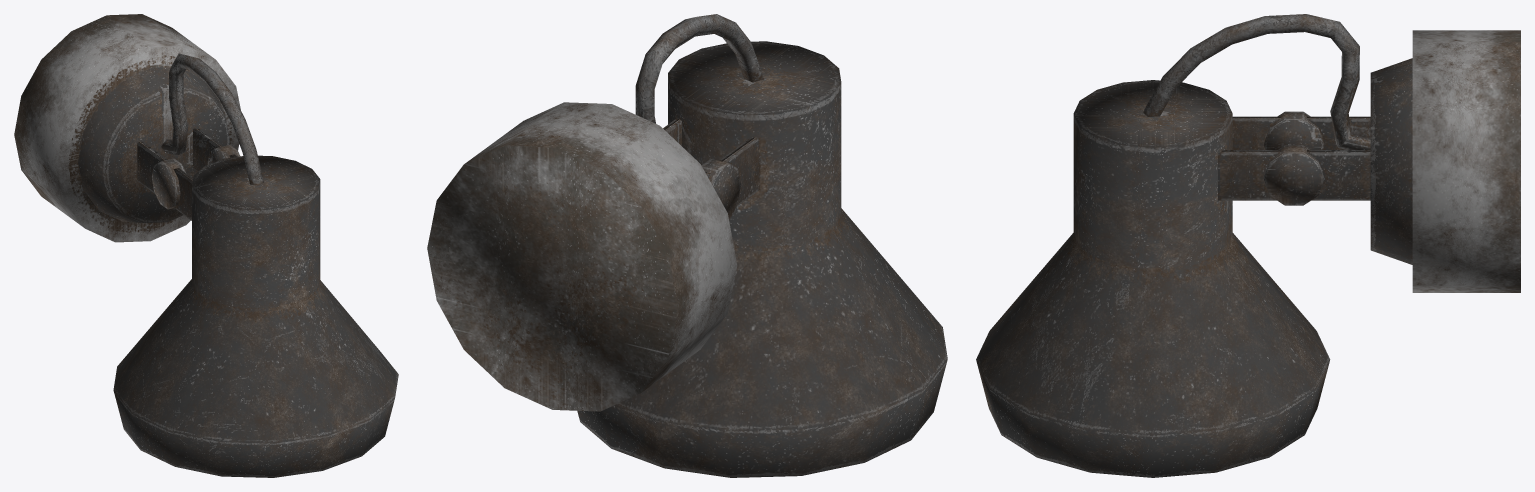
Rendered from Light_A.fbx.
The picture shows the model from 3 angles, left to right: view 1: azimuth 30°, elevation 25°; view 2: azimuth 150°, elevation 25°; view 3: azimuth 270°, elevation 25°; orthographic projection. The views are drawn at different scales.
Parts seen in each view (by area): view 1: Light_A_Light_A_Body, Light_A_Light_A_Connection, Light_A_Base; view 2: Light_A_Light_A_Body, Light_A_Base, Light_A_Light_A_Connection; view 3: Light_A_Light_A_Body, Light_A_Base, Light_A_Light_A_Connection.
Boxes of the visible parts, x1,y1,x2,y2 form: Light_A_Light_A_Body: [113, 154, 398, 477]; Light_A_Light_A_Connection: [78, 53, 263, 222]; Light_A_Base: [14, 14, 240, 242]; Light_A_Light_A_Body: [577, 41, 947, 477]; Light_A_Base: [427, 102, 737, 411]; Light_A_Light_A_Connection: [635, 14, 764, 220]; Light_A_Light_A_Body: [976, 80, 1330, 477]; Light_A_Base: [1412, 30, 1520, 292]; Light_A_Light_A_Connection: [1143, 14, 1412, 264].
Bounding box in the file's own units: 19.37 × 24.35 × 29.79.
1 material, 1 textured.
